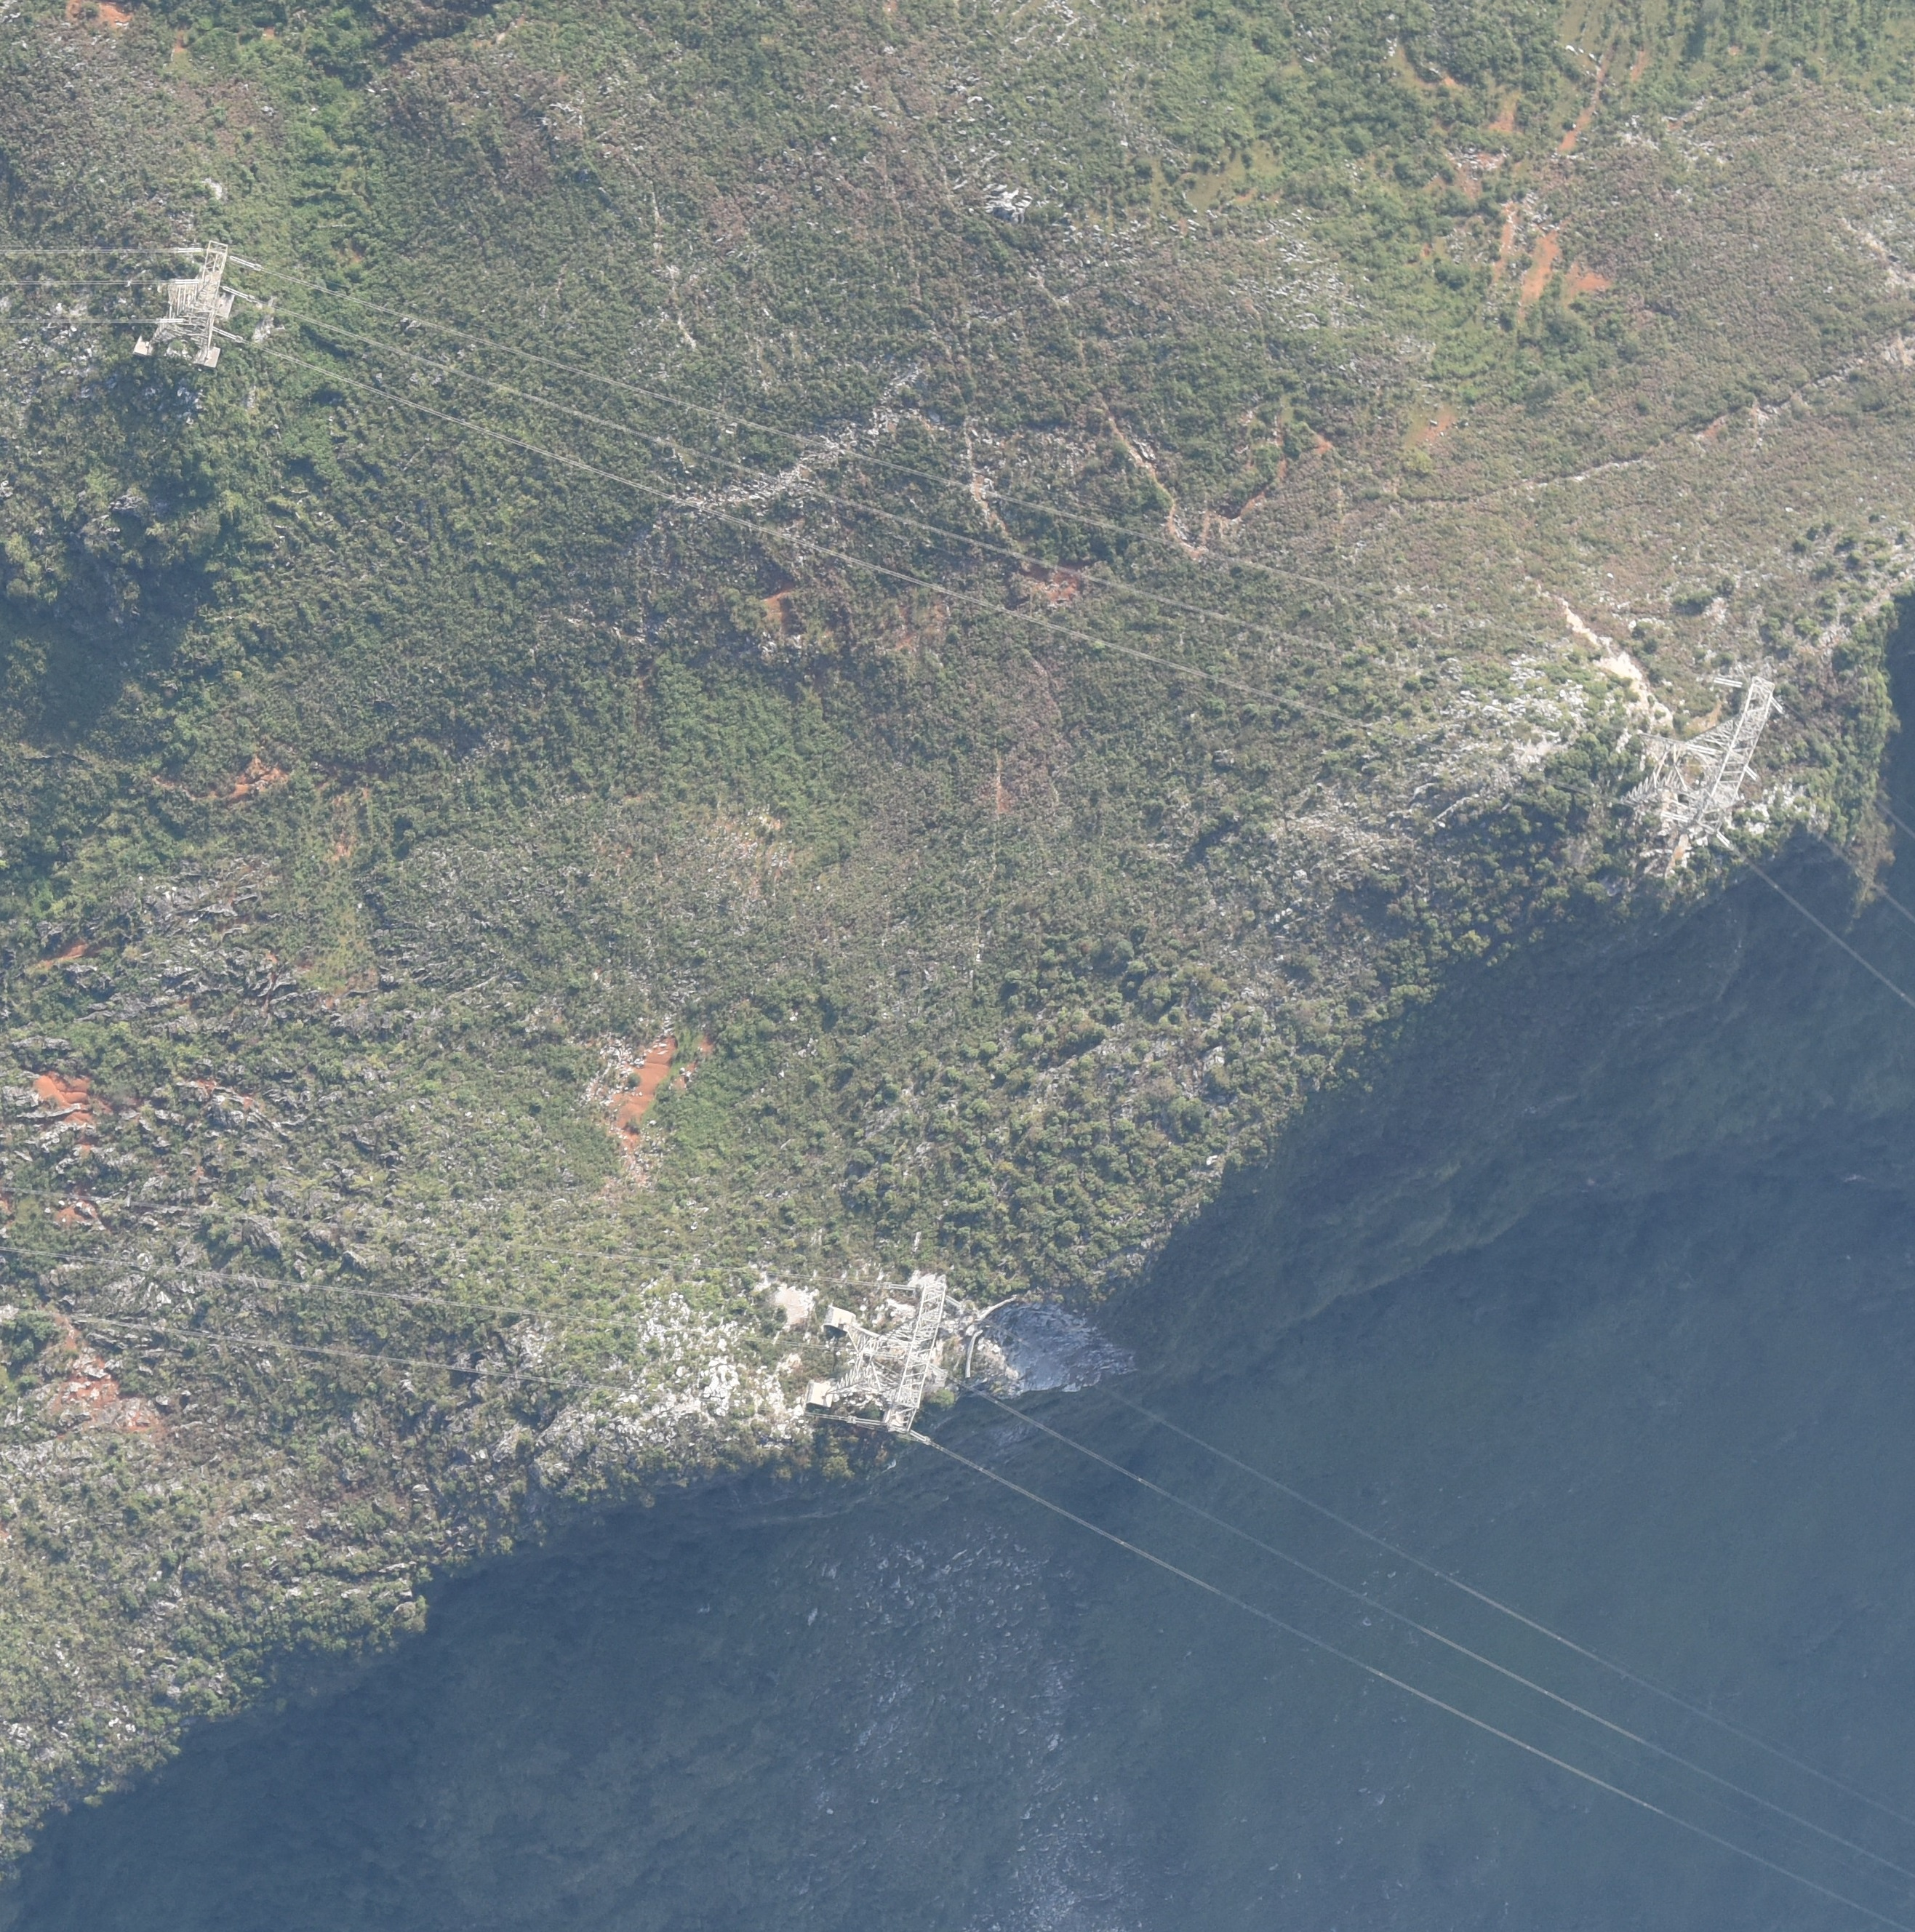cable-tower: (1608, 675, 1783, 857), (800, 1278, 956, 1436), (132, 240, 233, 373)
